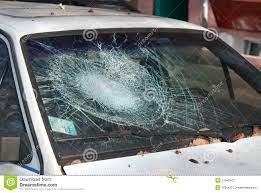Front-Windscreen-Damage: (24, 30, 242, 149)
